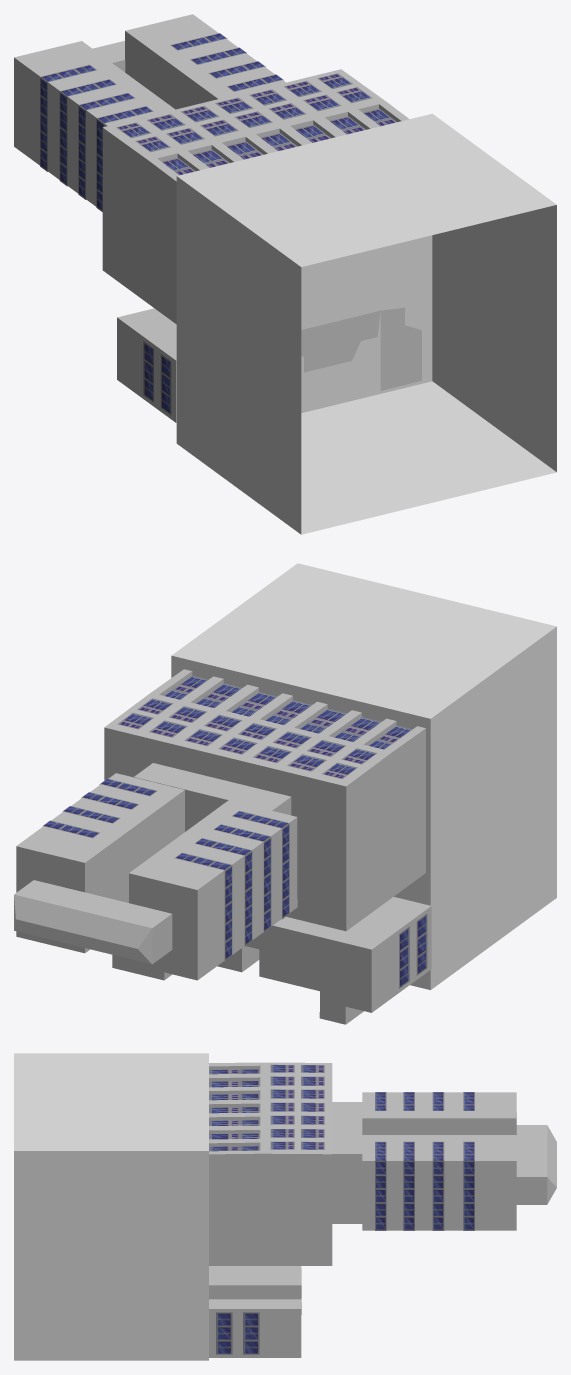
Rendered from block_mixed_01.FBX.
The picture shows the model from 3 angles, top to bottom: view 1: azimuth 30°, elevation 25°; view 2: azimuth 150°, elevation 25°; view 3: azimuth 270°, elevation 25°; orthographic projection. The views are drawn at different scales.
Parts seen in each view (by area): view 1: Plane002, building_commercial_4s, building_commercial_7s, building_brutalist_3s004, building_brutalist_3s001, building_brutalist_3s002; view 2: Plane002, building_commercial_7s, building_commercial_4s, building_brutalist_3s004, building_brutalist_3s003, building_brutalist_3s002, building_brutalist_3s001; view 3: Plane002, building_commercial_7s, building_commercial_4s, building_brutalist_3s001, building_brutalist_3s002.
Part boxes in pixels (left/top/right/bottom): Plane002: left=176, top=113, right=556, bottom=534; building_commercial_4s: left=102, top=69, right=409, bottom=324; building_commercial_7s: left=14, top=14, right=285, bottom=211; building_brutalist_3s004: left=117, top=308, right=176, bottom=422; building_brutalist_3s001: left=380, top=307, right=421, bottom=390; building_brutalist_3s002: left=304, top=310, right=380, bottom=372; Plane002: left=171, top=563, right=556, bottom=990; building_commercial_7s: left=14, top=763, right=297, bottom=980; building_commercial_4s: left=104, top=669, right=425, bottom=931; building_brutalist_3s004: left=319, top=896, right=431, bottom=1024; building_brutalist_3s003: left=246, top=916, right=331, bottom=991; building_brutalist_3s002: left=217, top=946, right=259, bottom=972; building_brutalist_3s001: left=112, top=955, right=172, bottom=980; Plane002: left=14, top=1053, right=208, bottom=1360; building_commercial_7s: left=332, top=1092, right=556, bottom=1230; building_commercial_4s: left=209, top=1062, right=332, bottom=1265; building_brutalist_3s001: left=209, top=1275, right=301, bottom=1357; building_brutalist_3s002: left=209, top=1266, right=301, bottom=1275.
Bounding box in the file's own units: 30.12 × 30 × 70.44.
